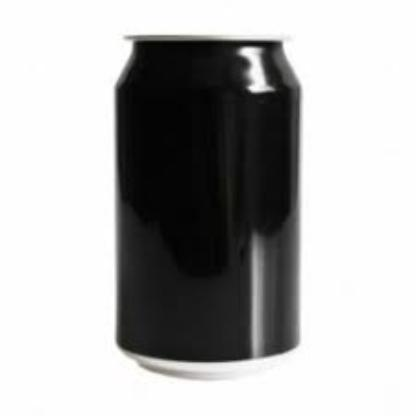Can: (113, 33, 299, 375)
